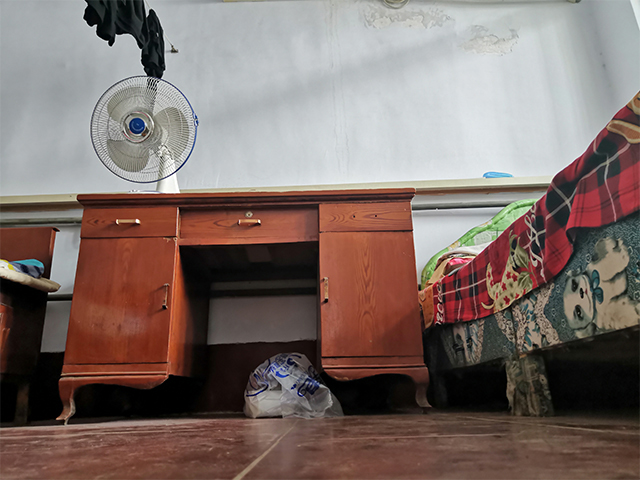bed: (416, 91, 640, 418)
cabinet: (50, 184, 435, 426)
